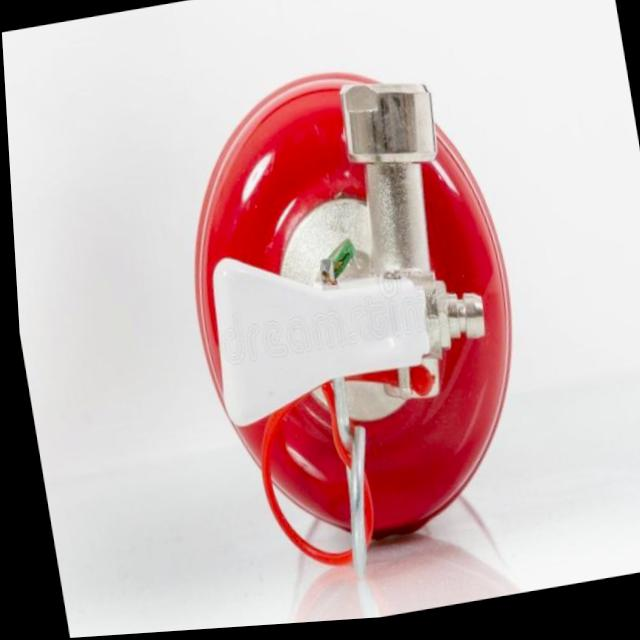FireExtinguisher: (153, 43, 554, 611)
